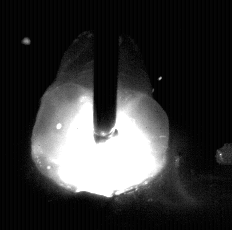arame: (94, 0, 118, 143)
poca: (30, 0, 170, 230)
